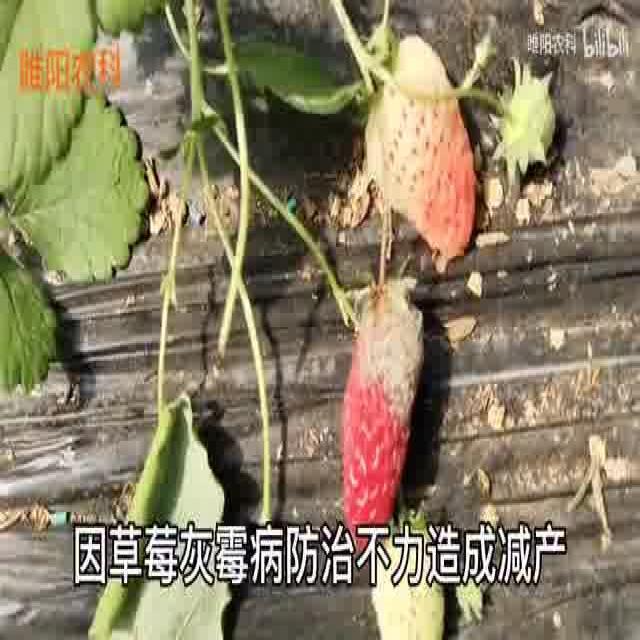Fruta sana: (364, 34, 478, 262), (490, 57, 557, 185)
Moho gris: (340, 276, 426, 556)
